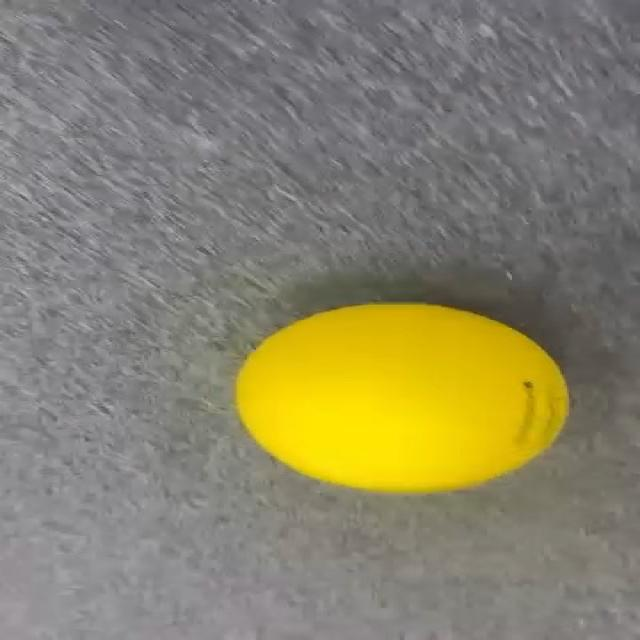Fuels: (238, 303, 567, 492)
